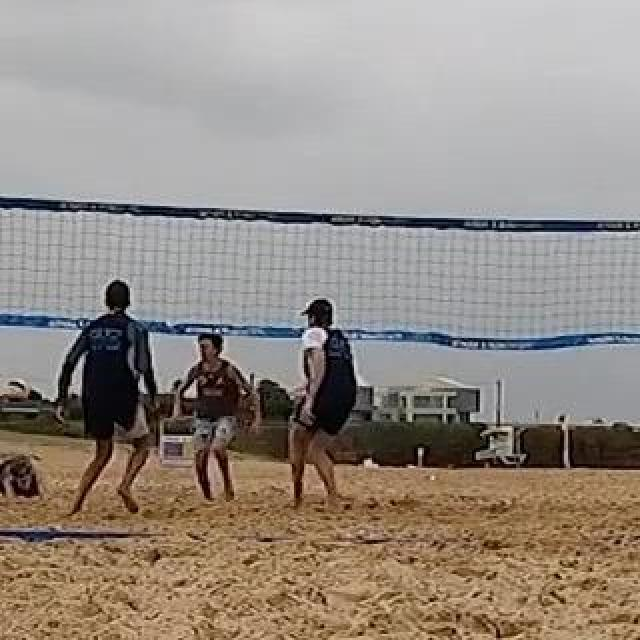volleyball: (6, 377, 28, 399)
